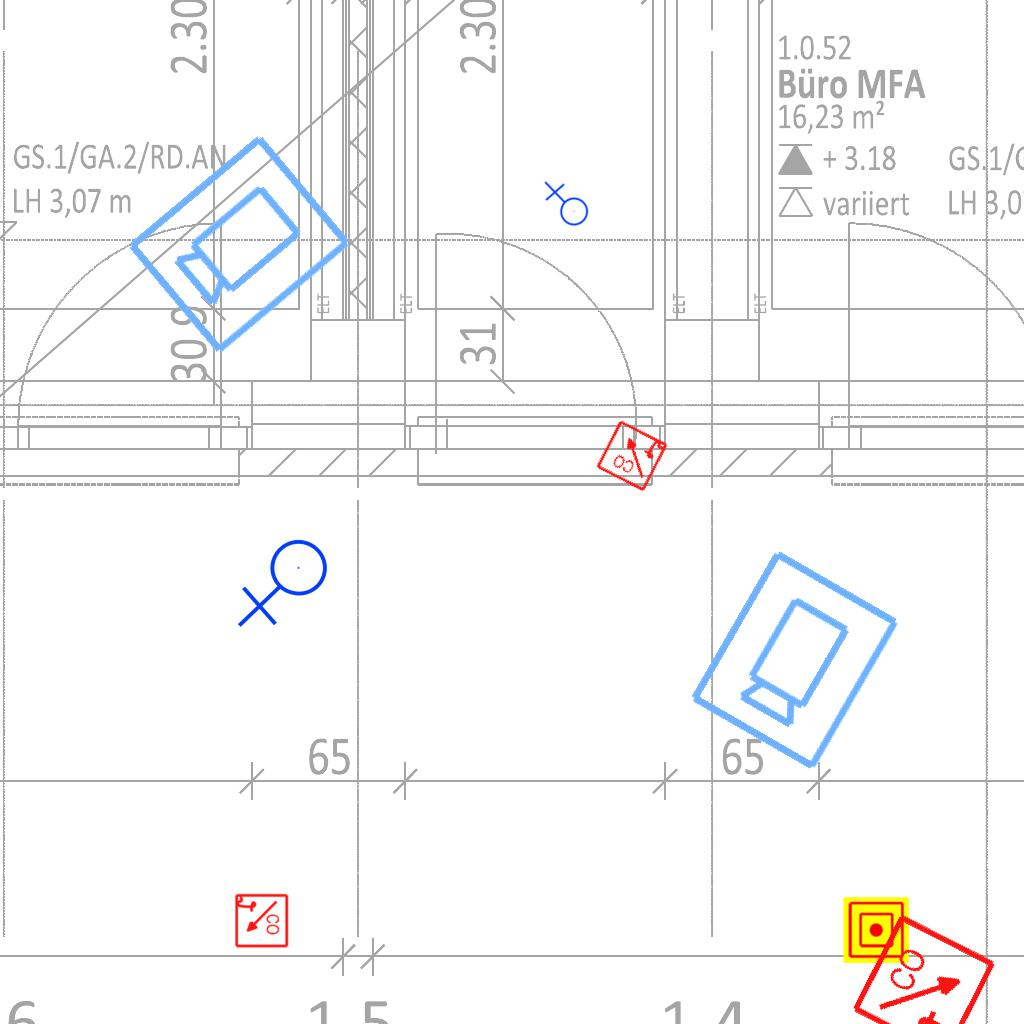Elektroanschluss_allgemein_230V_Geraeteanschlussdose_230V: (237, 538, 336, 632), (542, 181, 589, 230)
KFO_Kamera_mit_Festobjektiv: (119, 125, 359, 361), (681, 541, 907, 777)
NAM-Nichtautomatischer_Melder: (843, 897, 909, 963)
ROA_Rauchmelder_optisch_mit_Signalgeber_(Sockelsirene): (849, 910, 1002, 1024), (594, 417, 670, 493), (233, 893, 289, 949)
